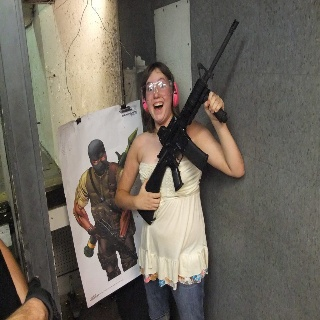rifle: (135, 17, 241, 223), (91, 219, 138, 263)
